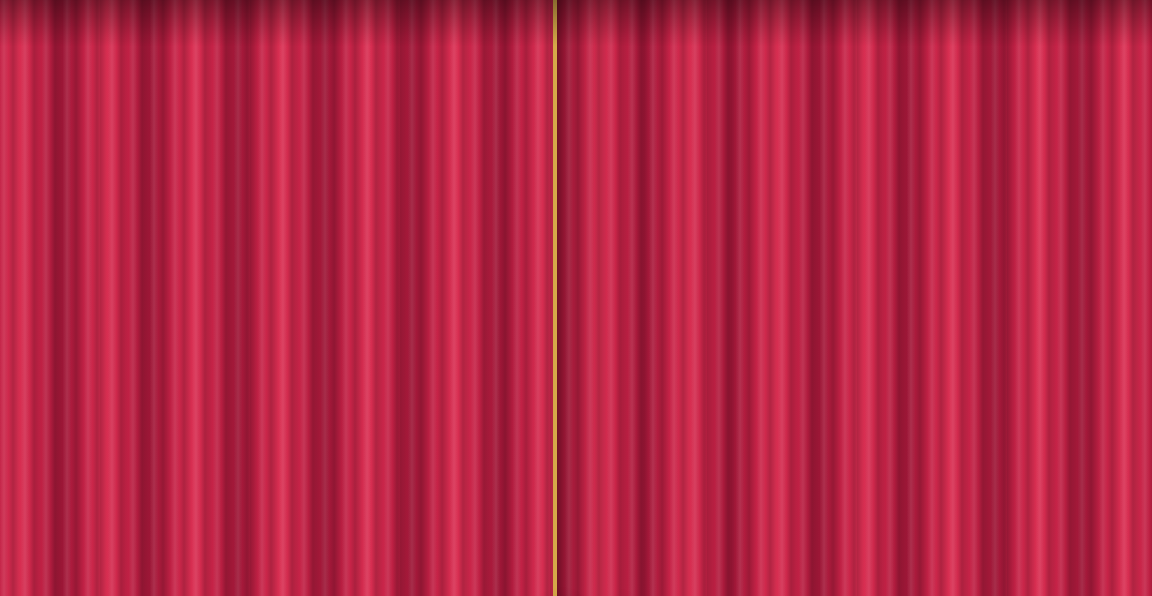
Scenario: กล่องของขวัญ › คลิกกล่องแล้วขึ้น “สวัสดีปีใหม่” ก่อนเข้าหน้าจัดการ
Later steps or results of the test are not shown.
Click the button named "เปิดกล่องของขวัญ" at (576, 370), box x1=436 y1=220 x2=716 y2=520
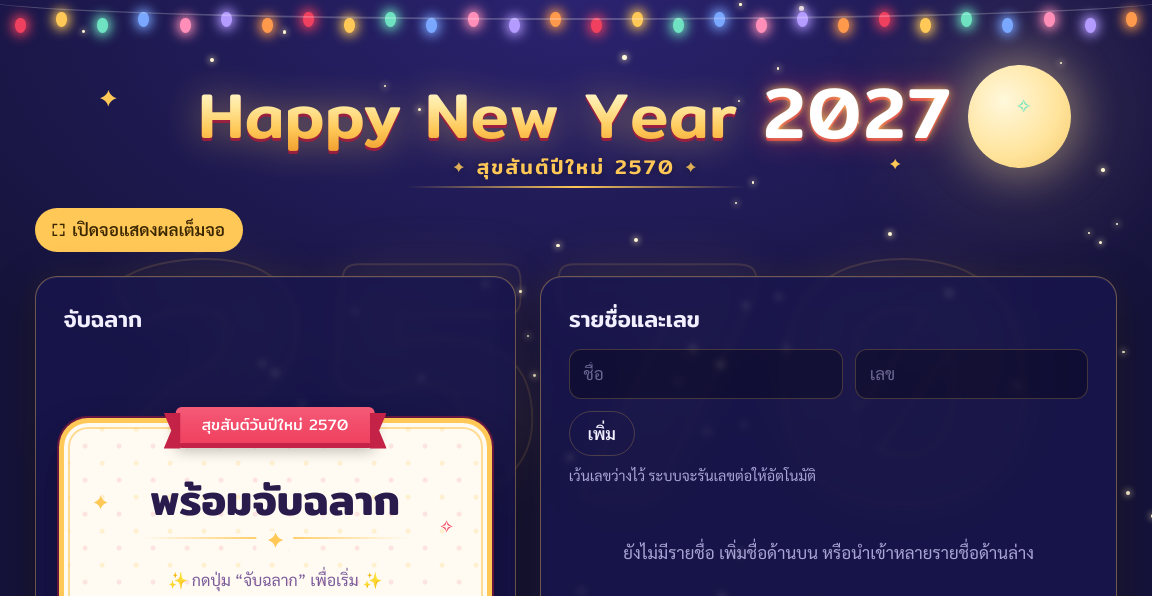
Expected: the heading "Happy New Year 2027 สุขสันต์ปีใหม่ 2570" is shown, x1=198 y1=56 x2=954 y2=182
